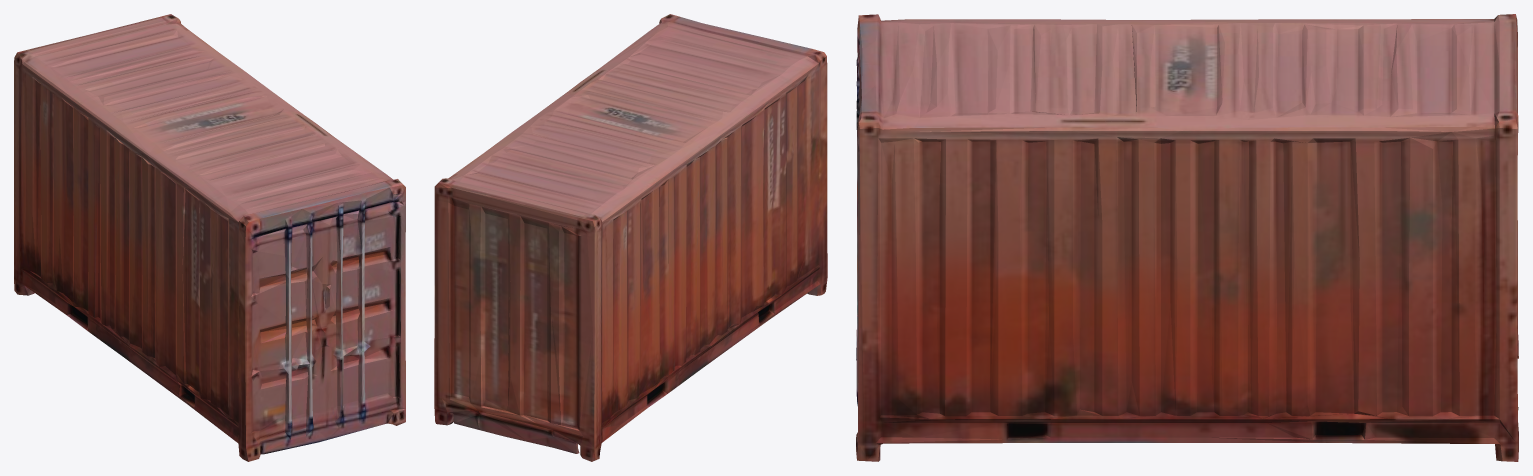
Rendered from cargo_container.glb.
The picture shows the model from 3 angles, left to right: view 1: azimuth 30°, elevation 25°; view 2: azimuth 150°, elevation 25°; view 3: azimuth 270°, elevation 25°; orthographic projection. The views are drawn at different scales.
Visible parts, largest first — view 1: textured_mesh.obj; view 2: textured_mesh.obj; view 3: textured_mesh.obj.
Part boxes in pixels (x1,y1,x2,y2): textured_mesh.obj: [14, 14, 405, 461]; textured_mesh.obj: [434, 14, 827, 461]; textured_mesh.obj: [856, 14, 1518, 461].
Size of the model in its own units: 1.83 by 2.6 by 4.57.
1 material, 1 textured.
